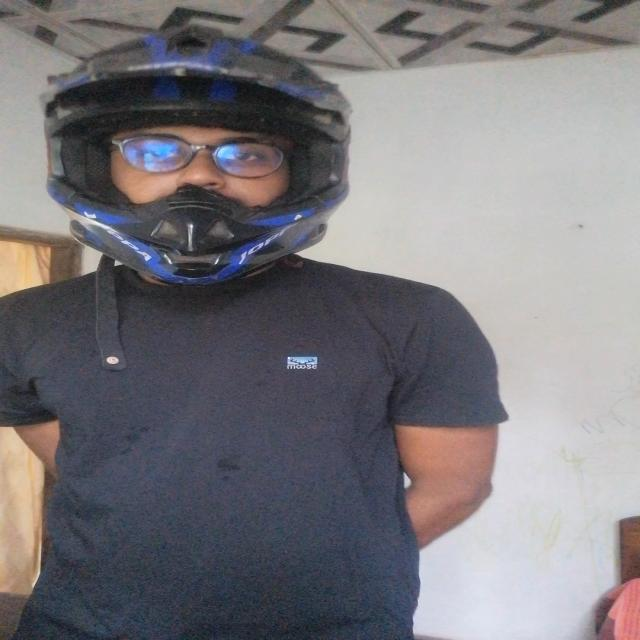Helmet_Wearer: (41, 24, 362, 299)
